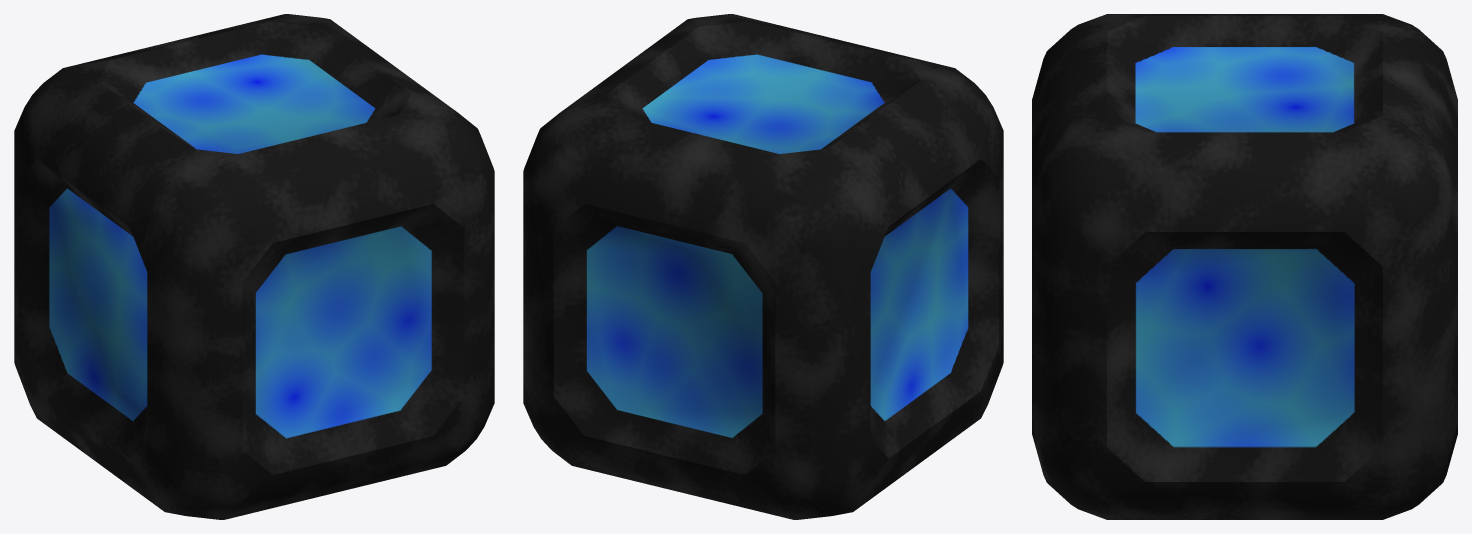
The model's file is RS_3D_P_diamonds.fbx.
3 views of the same model, side by side, from view 1: azimuth 30°, elevation 25°; view 2: azimuth 150°, elevation 25°; view 3: azimuth 270°, elevation 25° (orthographic). The views are drawn at different scales.
Visible parts, largest first — view 1: RS_3D_diamonds; view 2: RS_3D_diamonds; view 3: RS_3D_diamonds.
Part boxes in pixels (<box>): RS_3D_diamonds: <box>14,14,494,519</box>; RS_3D_diamonds: <box>523,14,1003,519</box>; RS_3D_diamonds: <box>1032,14,1457,519</box>.
Size of the model in its own units: 32.96 by 32.96 by 32.96.
